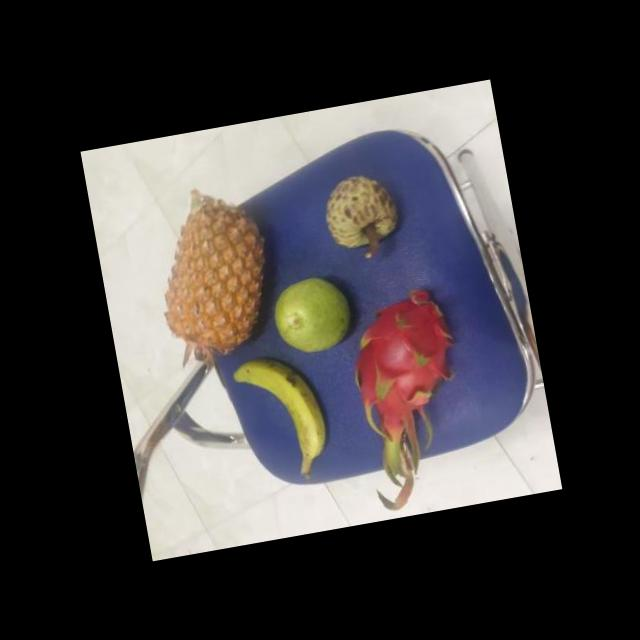Sakya fruit: (318, 165, 401, 256)
banana: (228, 342, 334, 472)
guava: (266, 268, 356, 358)
pineapple: (147, 192, 284, 356)
pitaya: (339, 276, 464, 434)
